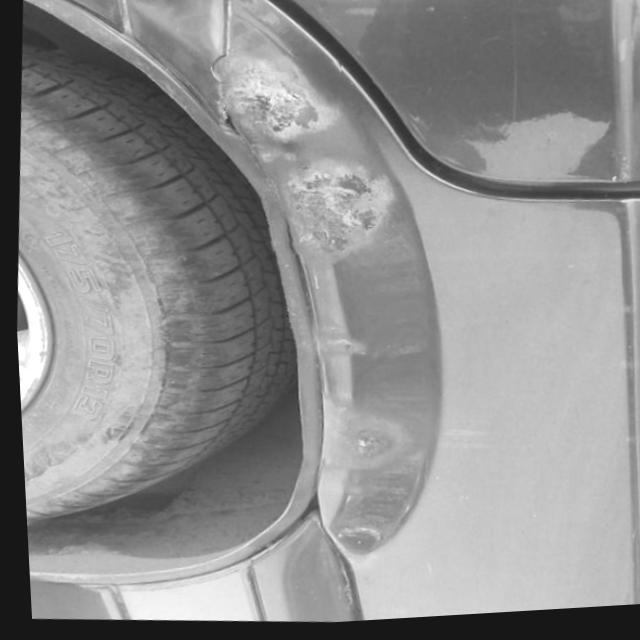Rust: (280, 157, 394, 269), (214, 56, 337, 145), (319, 386, 408, 469), (313, 311, 371, 356), (254, 149, 301, 164)
